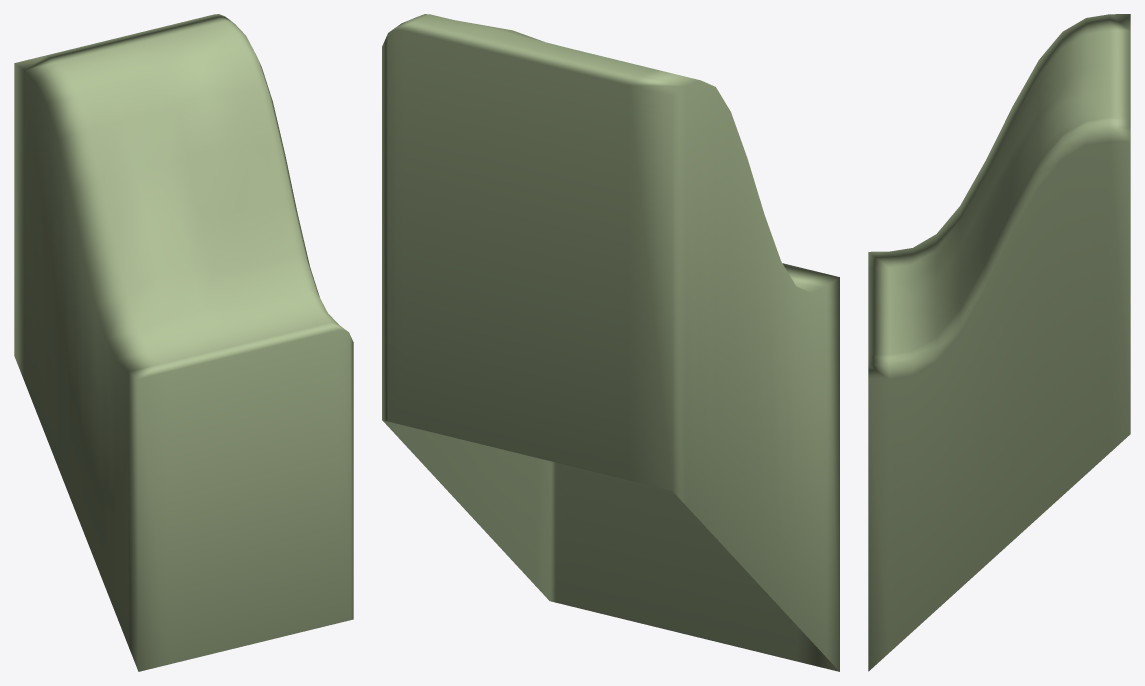
Rendered from ground-ramp-r-21.glb.
3 renders of one model, left to right at view 1: azimuth 30°, elevation 25°; view 2: azimuth 150°, elevation 25°; view 3: azimuth 270°, elevation 25°, orthographic. The views are drawn at different scales.
Visible parts, largest first — view 1: ground-ramp-r-21; view 2: ground-ramp-r-21; view 3: ground-ramp-r-21.
Part boxes in pixels (x1=…): ground-ramp-r-21: x1=14, y1=14, x2=353, y2=671; ground-ramp-r-21: x1=382, y1=14, x2=839, y2=671; ground-ramp-r-21: x1=868, y1=14, x2=1130, y2=671.
Size of the model in its own units: 1 by 2.3 by 1.
